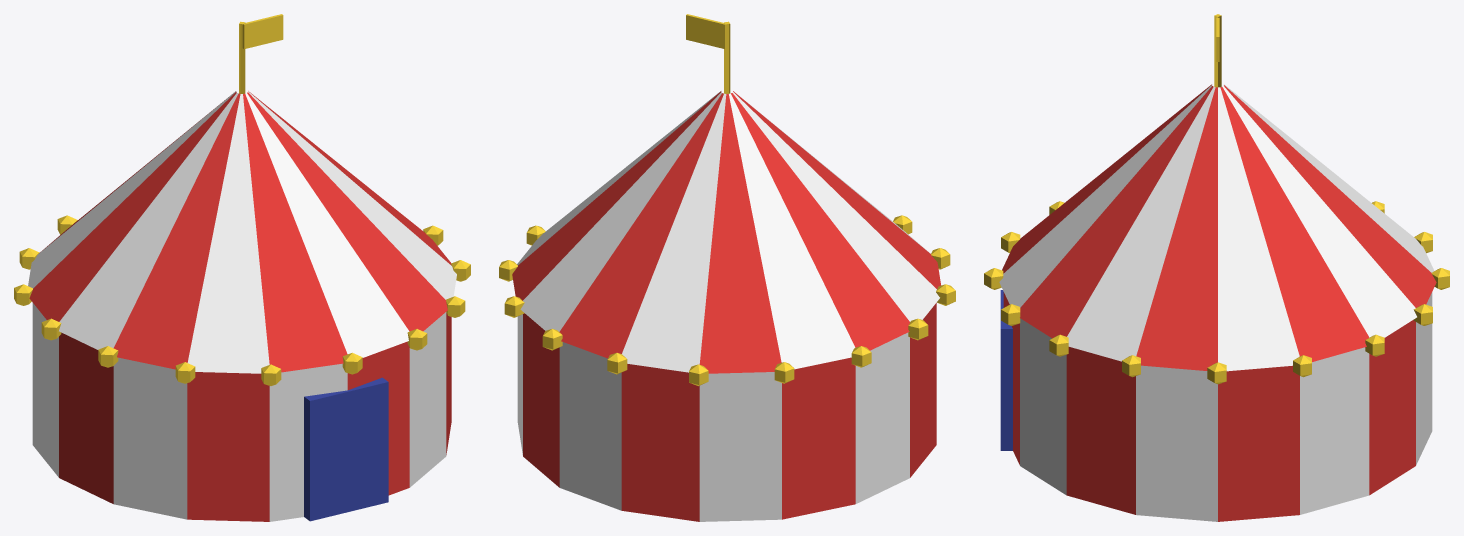
The model's file is cirkus.glb.
3 views of the same model, side by side, from view 1: azimuth 30°, elevation 25°; view 2: azimuth 150°, elevation 25°; view 3: azimuth 270°, elevation 25° (orthographic).
Parts seen in each view (by area): view 1: cirkus; view 2: cirkus; view 3: cirkus.
Part boxes in pixels (x1=…): cirkus: x1=14, y1=14, x2=470, y2=521; cirkus: x1=499, y1=14, x2=955, y2=521; cirkus: x1=984, y1=14, x2=1449, y2=521.
Bounding box in the file's own units: 1.53 × 1.5 × 1.52.
